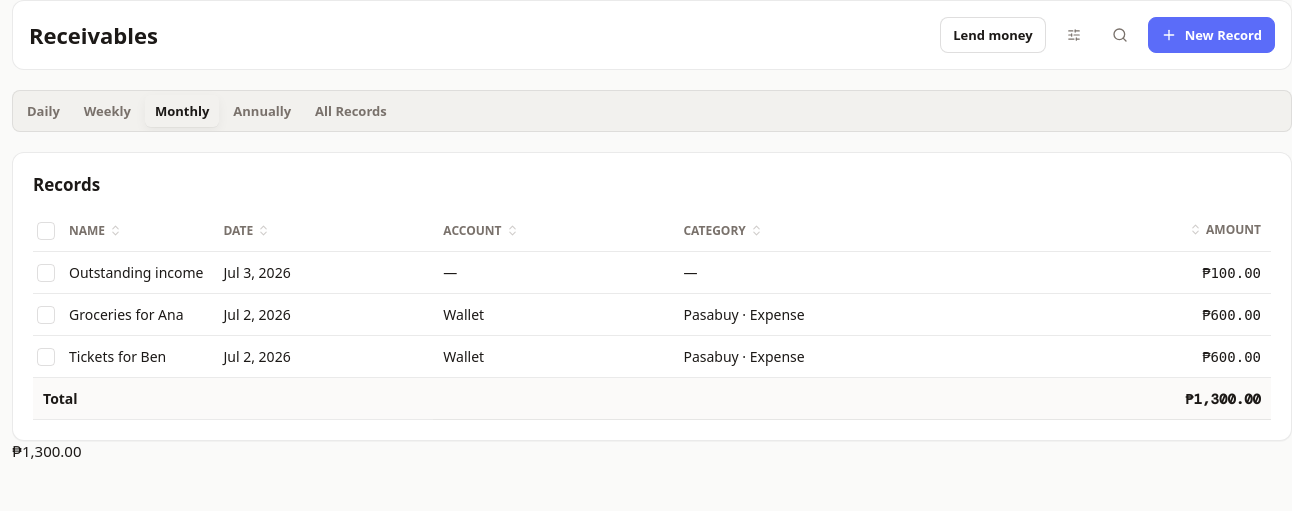
it: Receivables Pasabuy details and selection › selects and deselects Pasabuy rows and all rows without opening details
This screenshot has width=1292, height=511.
Check: the text "Groceries for Ana" is shown, box [33,294,214,336]
Click the button named "Select row" next to "Groceries for Ana": point(46, 314) [37,306,55,324]
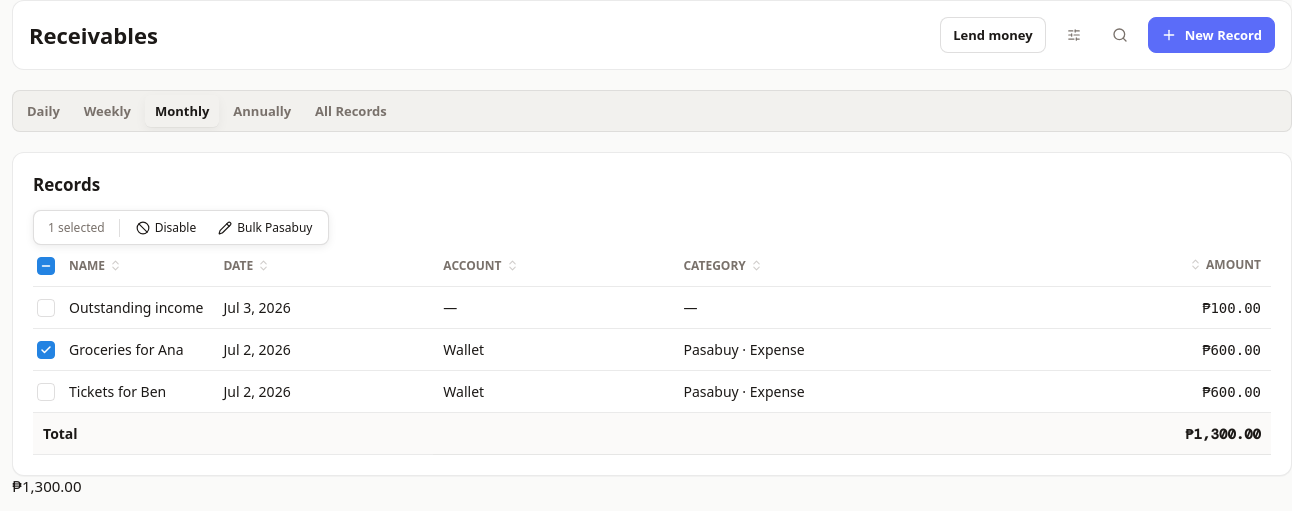
Check: the text "1 selected" is shown, box [48,219,105,236]
Click the button named "Select all rows": point(46, 266) [37,256,55,274]
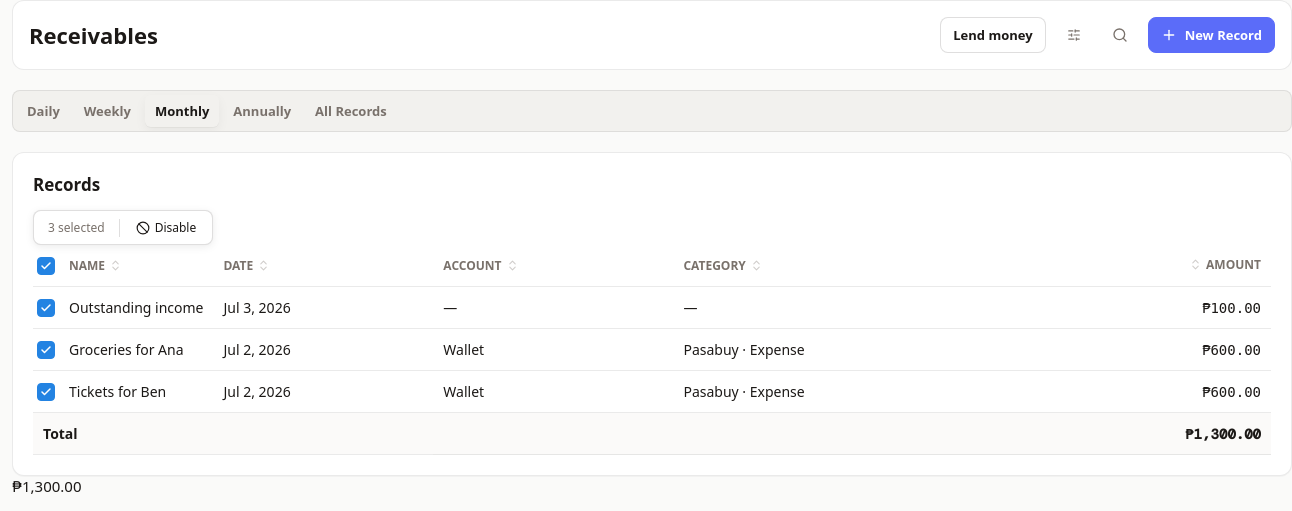
Check: the text "3 selected" is shown, box [48,219,105,236]
Click the button named "Select all rows": point(46, 266) [37,256,55,274]
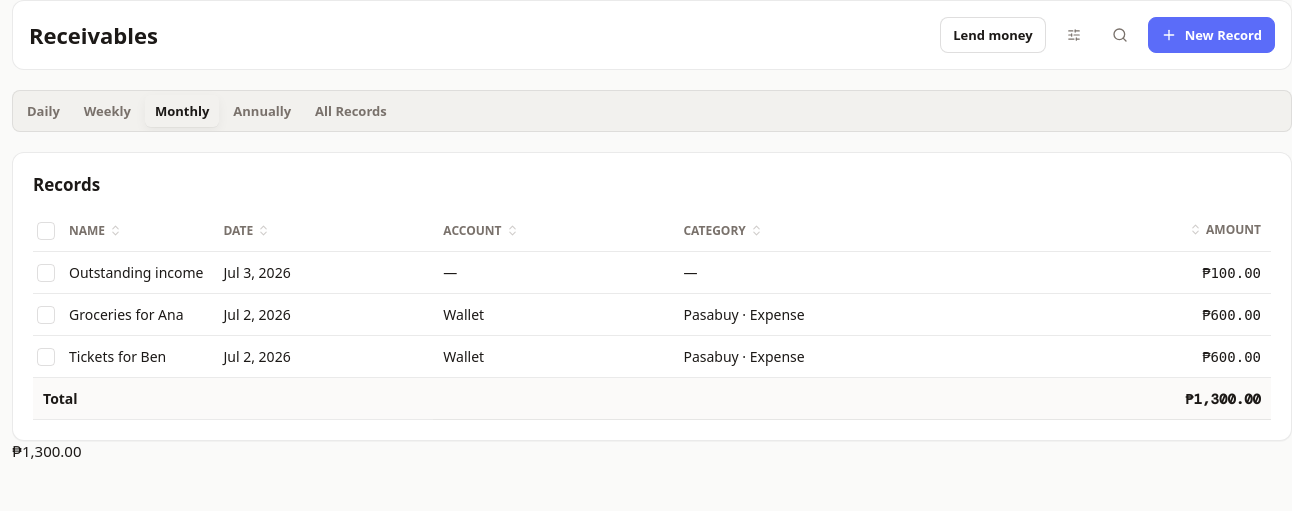
Check: the text "selected" is gone
